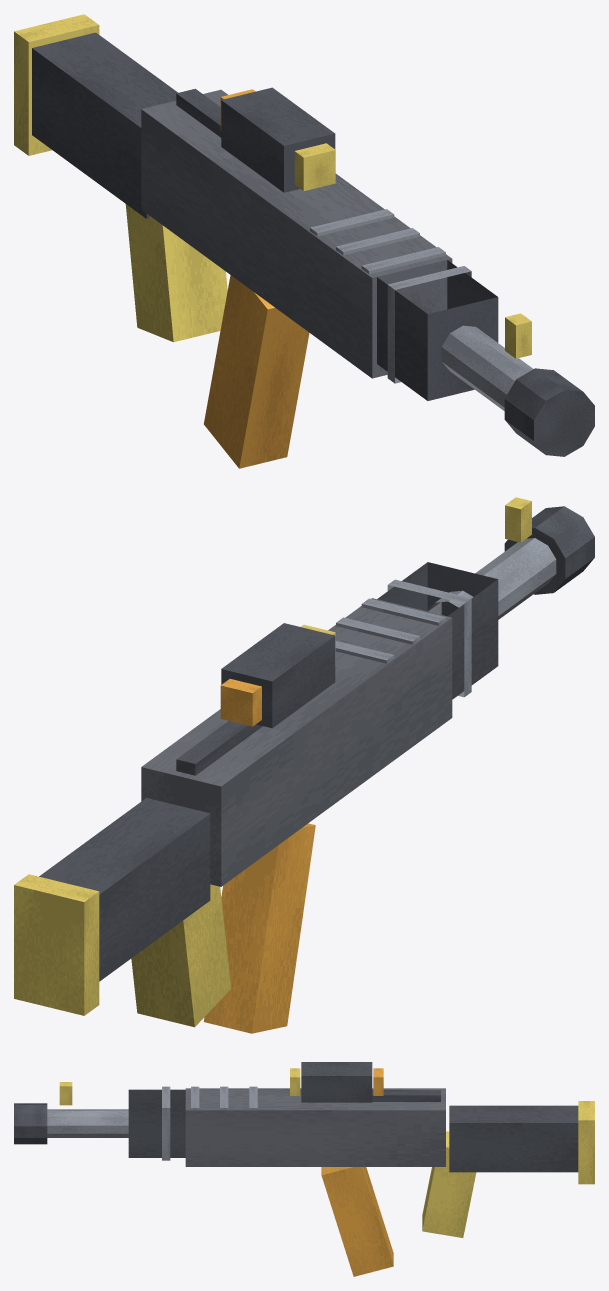
Rendered from weapon_ar.glb.
3 views of the same model, one above another, from view 1: azimuth 30°, elevation 25°; view 2: azimuth 150°, elevation 25°; view 3: azimuth 270°, elevation 25° (orthographic). The views are drawn at different scales.
Visible parts, largest first — view 1: weapon_ar; view 2: weapon_ar; view 3: weapon_ar.
Boxes of the visible parts, x1,y1,x2,y2 form: weapon_ar: (14, 14, 594, 468); weapon_ar: (14, 497, 594, 1033); weapon_ar: (14, 1062, 594, 1276).
Bounding box in the file's own units: 0.25 × 1.07 × 2.79.
1 material, 1 textured.
